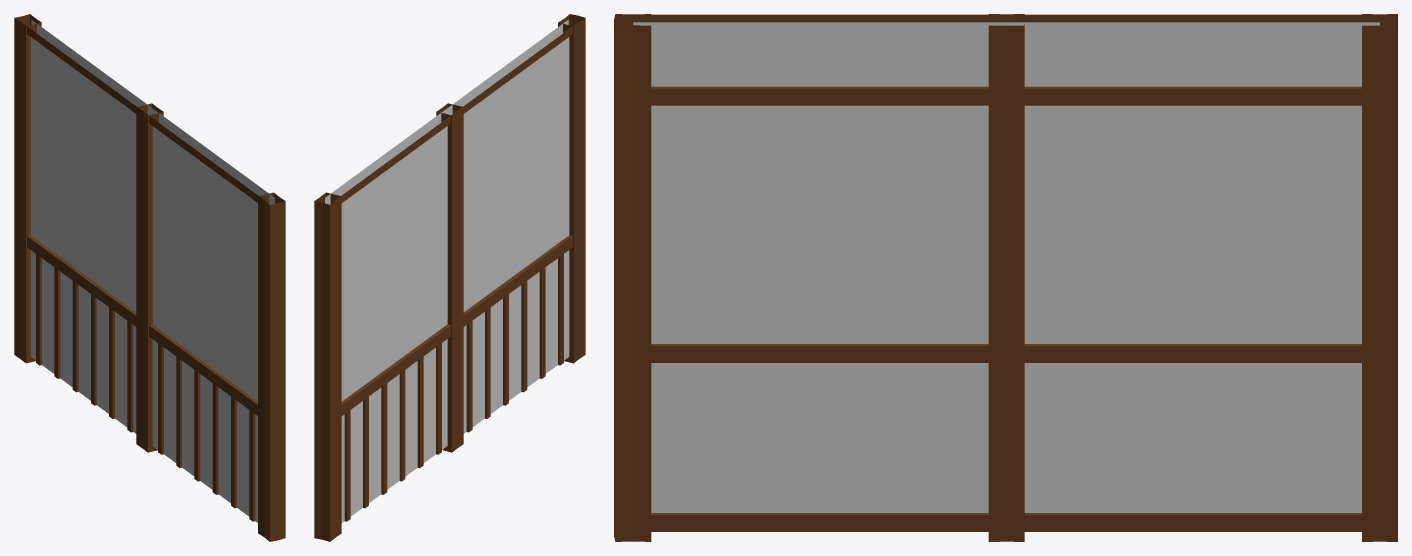
Rendered from Wall D 4x3.fbx.
3 views of the same model, side by side, from view 1: azimuth 30°, elevation 25°; view 2: azimuth 150°, elevation 25°; view 3: azimuth 270°, elevation 25° (orthographic). The views are drawn at different scales.
Visible parts, largest first — view 1: Wall D 4x3, Wall D 4x3_LOD0; view 2: Wall D 4x3, Wall D 4x3_LOD0; view 3: Wall D 4x3, Wall D 4x3_LOD0.
Boxes of the visible parts, left/top/right/bottom form: Wall D 4x3: left=14, top=14, right=285, bottom=541; Wall D 4x3_LOD0: left=14, top=15, right=285, bottom=539; Wall D 4x3: left=314, top=14, right=585, bottom=541; Wall D 4x3_LOD0: left=314, top=14, right=585, bottom=540; Wall D 4x3: left=614, top=14, right=1397, bottom=541; Wall D 4x3_LOD0: left=614, top=14, right=1397, bottom=541.
Size of what is drawn, in the model's own units: 14.96 by 305 by 420.
